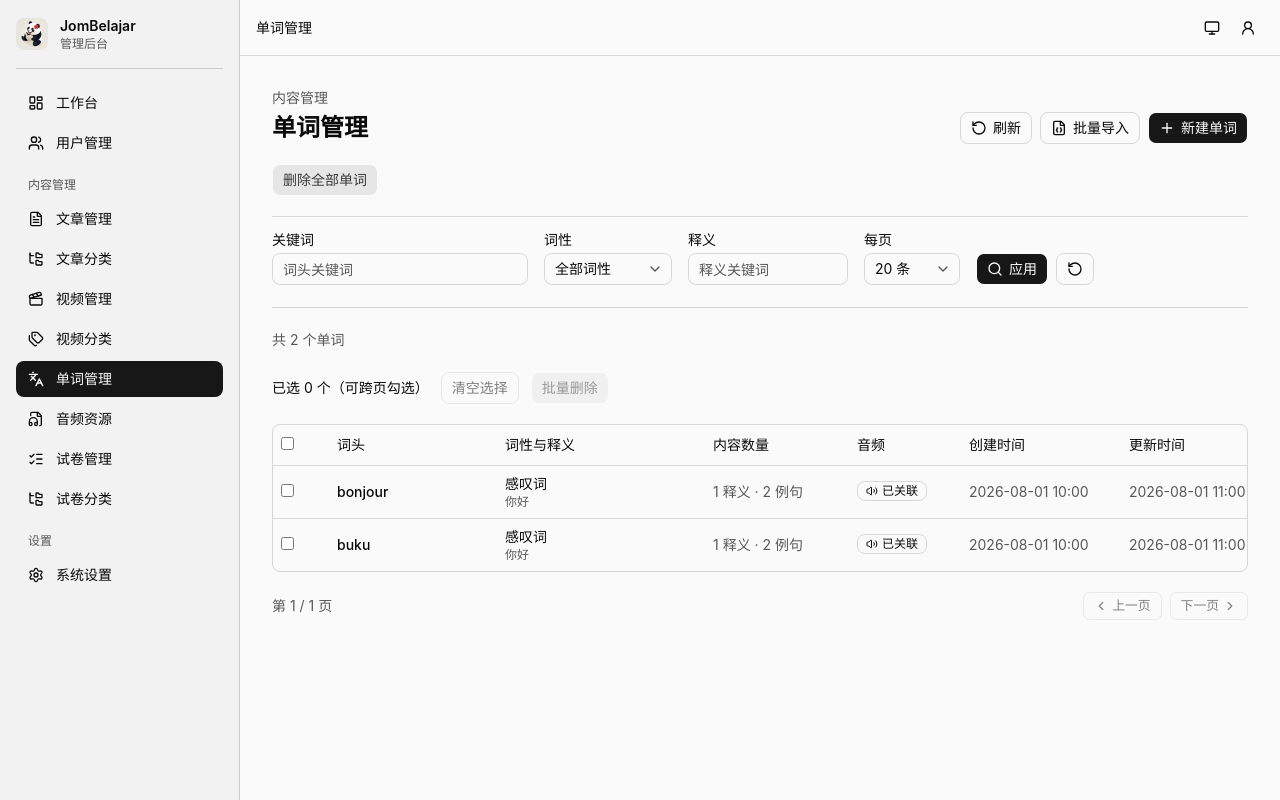
Test: Words › selects a page, confirms only selected words and reports partial deletion failures
Click the checkbox named "全选本页单词": click(288, 443) [281,437,294,450]
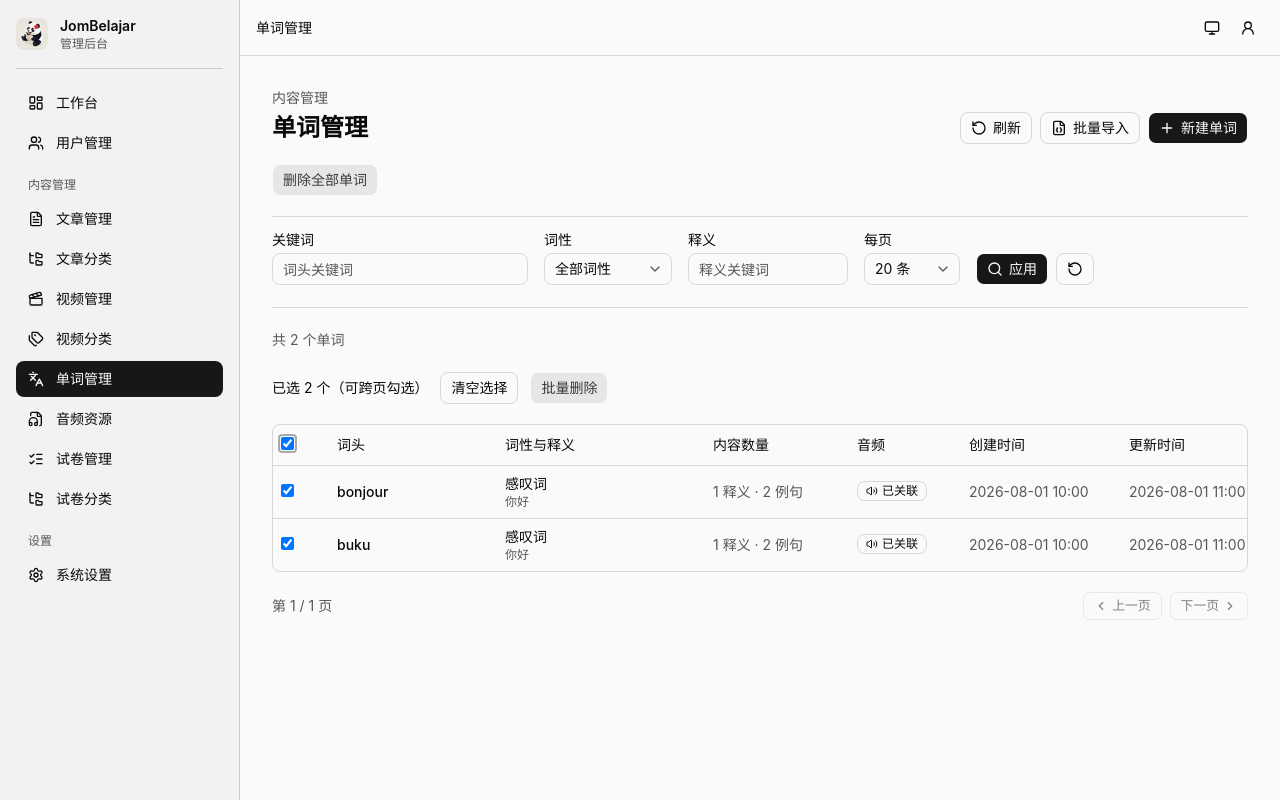
Click the button "批量删除": click(569, 388) [530,372,608,404]
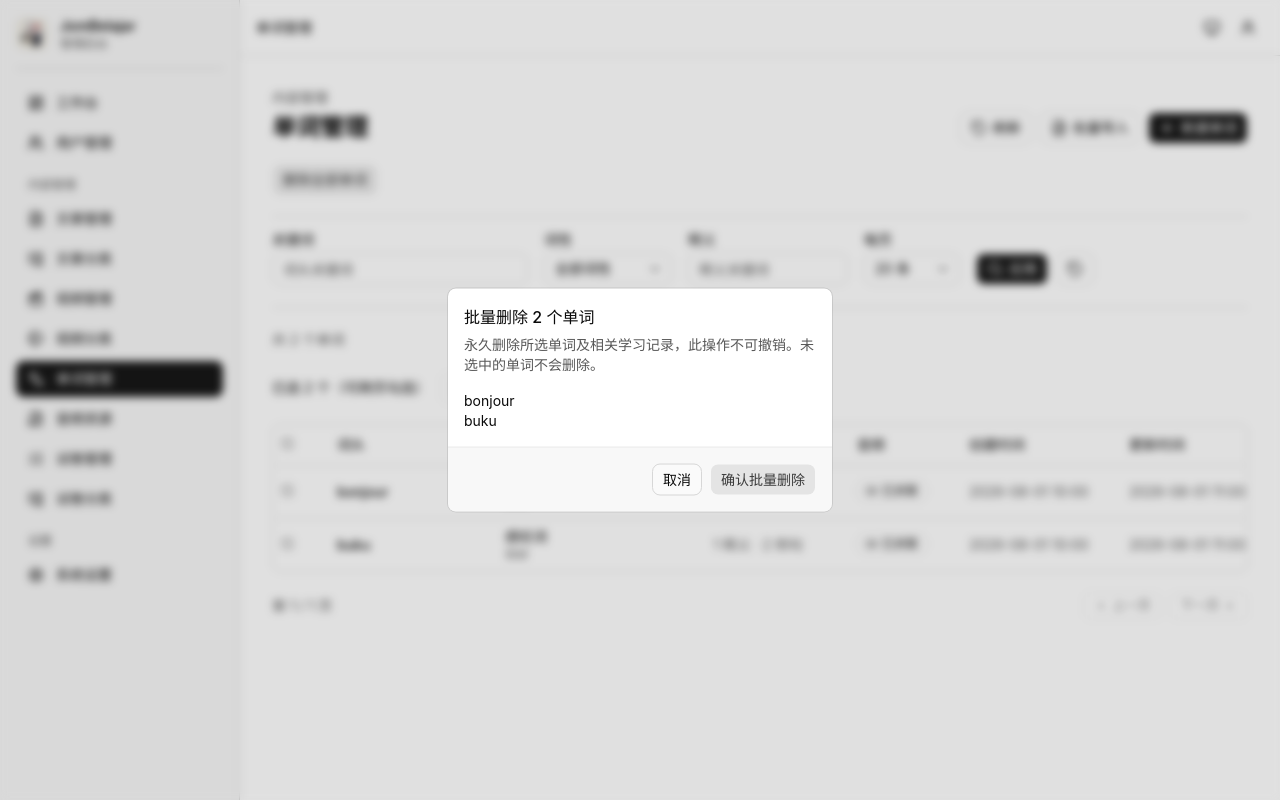
Check: the list item "buku" is shown, box [464,412,497,428]
Click the button "确认批量删除": click(763, 480) [710,464,816,496]
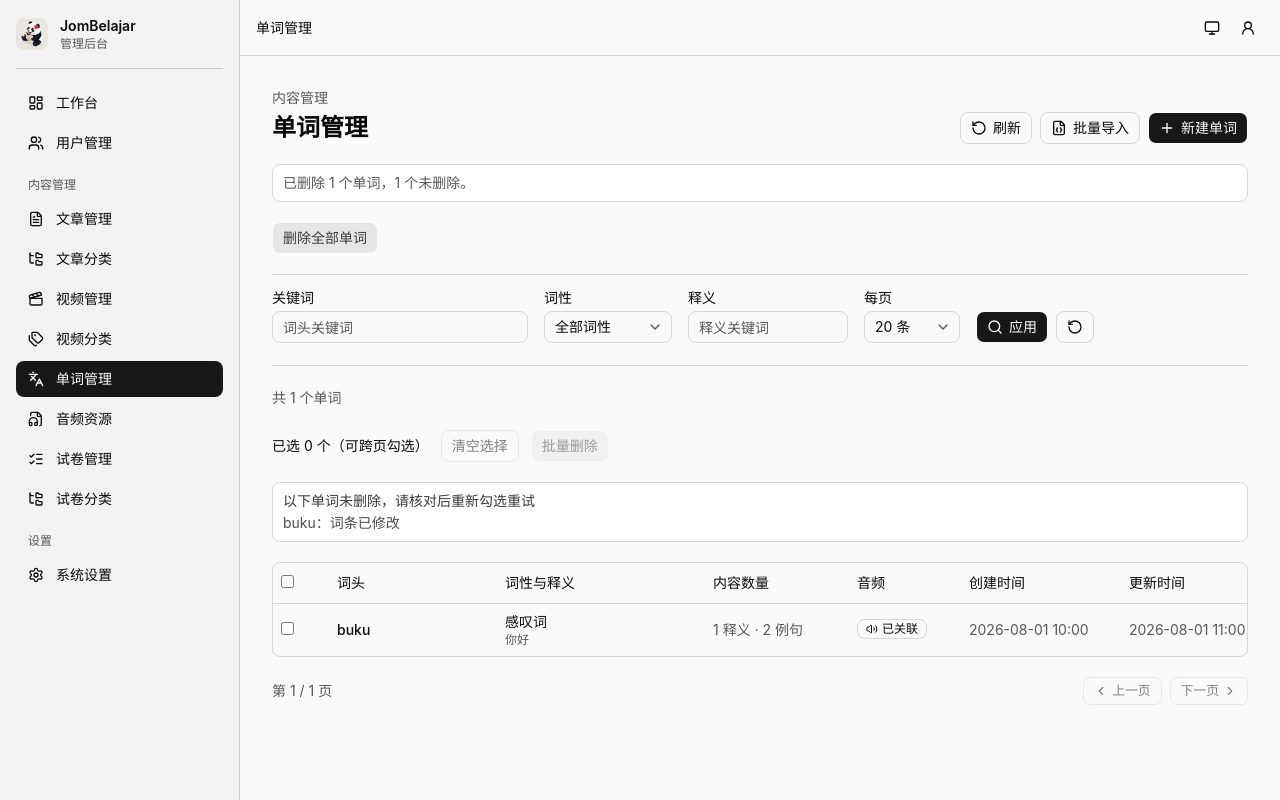
Check: the text "已删除 1 个单词，1 个未删除。" is shown, box [283,174,474,191]
Check: the text "以下单词未删除，请核对后重新勾选重试" is shown, box [283,492,535,509]
